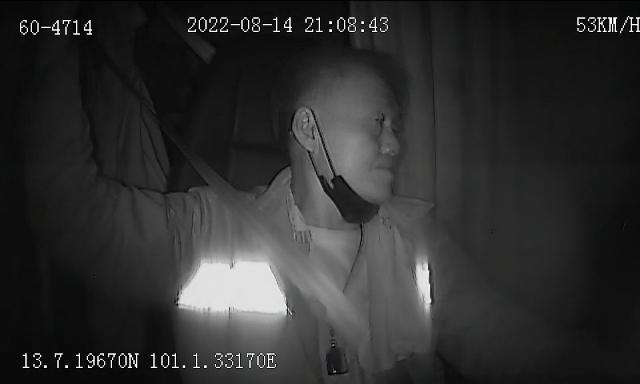Seatbelt: (167, 102, 365, 366)
